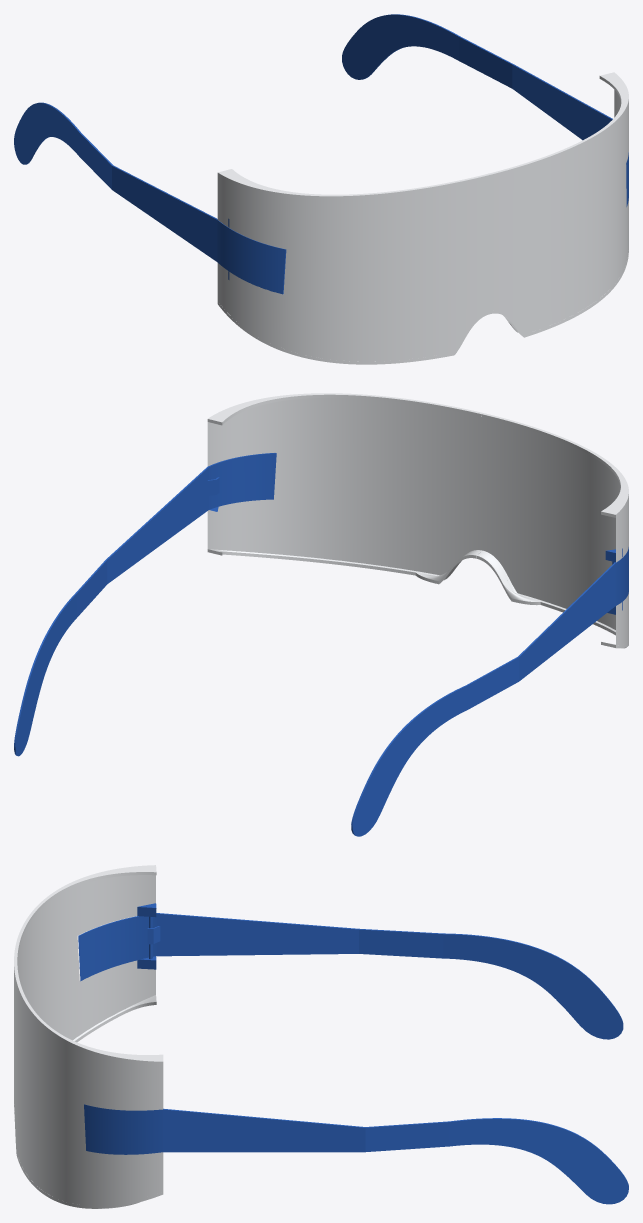
File: camilasaraviaruiz.glb
3 renders of one model, top to bottom at view 1: azimuth 30°, elevation 25°; view 2: azimuth 150°, elevation 25°; view 3: azimuth 270°, elevation 25°, orthographic.
Visible parts, largest first — view 1: lente, asta_sinistra, asta_destra, bordo; view 2: lente, asta_destra, asta_sinistra, bordo; view 3: lente, asta_destra, asta_sinistra, bordo, cerniera_sinistra.
Part boxes in pixels (x1,y1,x2,y2): lente: (217, 72, 628, 364); asta_sinistra: (14, 102, 286, 294); asta_destra: (342, 14, 628, 206); bordo: (217, 250, 628, 364); lente: (207, 393, 628, 645); asta_destra: (14, 453, 276, 756); asta_sinistra: (351, 547, 628, 836); bordo: (207, 549, 628, 648); lente: (14, 865, 163, 1205); asta_destra: (84, 1104, 628, 1204); asta_sinistra: (78, 913, 623, 1039); bordo: (14, 995, 163, 1208); cerniera_sinistra: (137, 903, 156, 969).
Size of the model in its own units: 0.1398 by 0.0569 by 0.1825.
